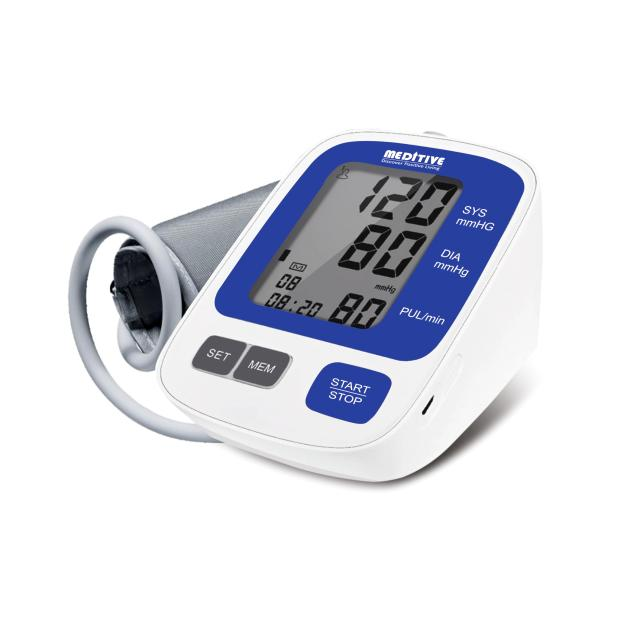dia: (325, 212, 433, 291)
pul: (315, 277, 392, 338)
ssd: (248, 117, 467, 366)
sys: (340, 159, 463, 237)
